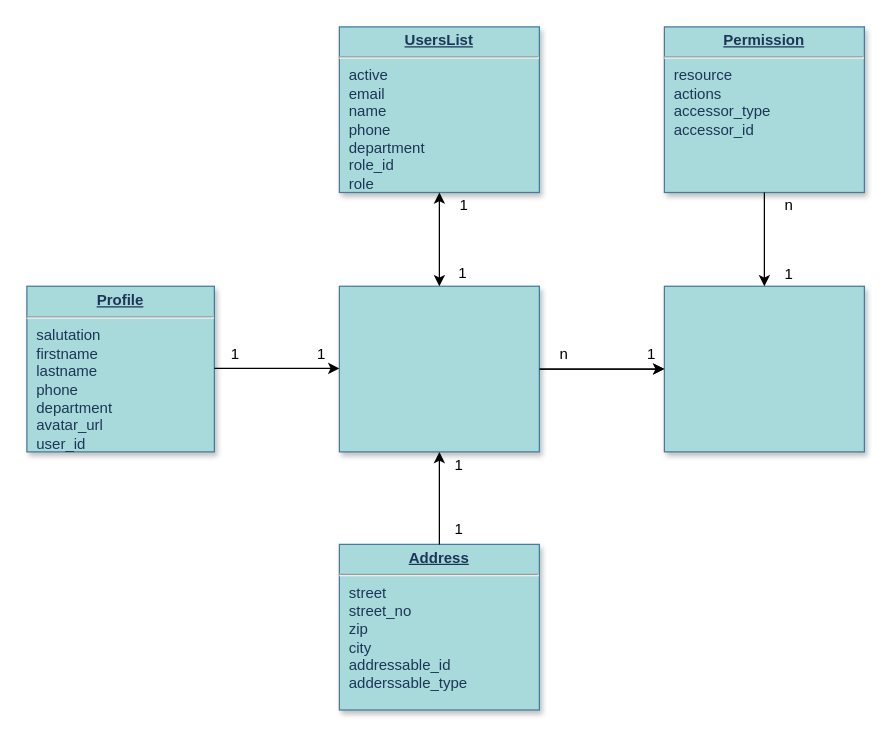
Some shapes in this 894 by 741 pixel diagram are drawn without their labels. Each missing label, with the centre of its shape:
Role name: (765,370)
User email role_id active discarded_at devise_attributes: (440,370)
